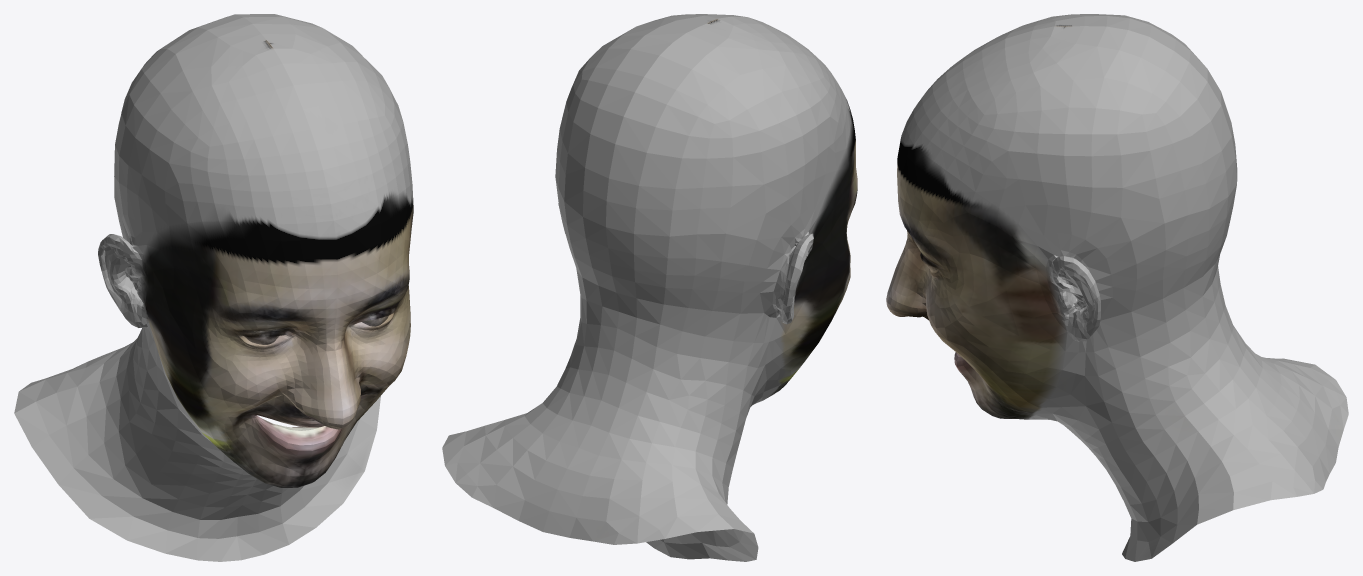
Rendered from ezgif-frame-019.obj.
3 views of the same model, side by side, from view 1: azimuth 30°, elevation 25°; view 2: azimuth 150°, elevation 25°; view 3: azimuth 270°, elevation 25° (orthographic). The views are drawn at different scales.
Bounding box in the file's own units: 0.2079 × 0.328 × 0.2667.
1 material, 1 textured.
